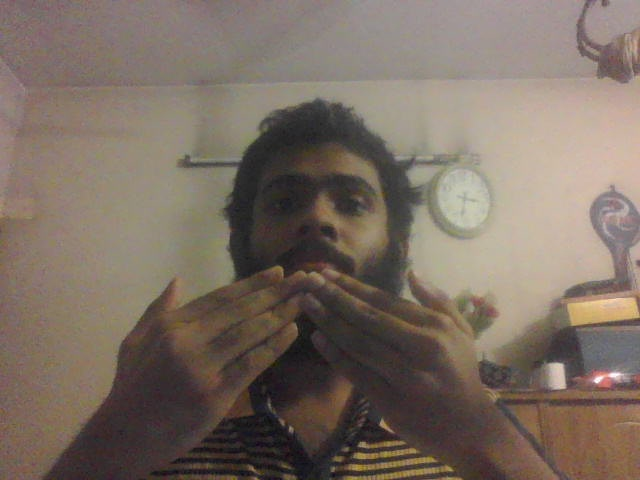Thank You: (105, 263, 485, 450)
